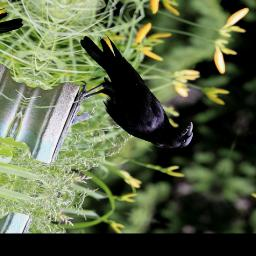Crow: (48, 28, 221, 155)
